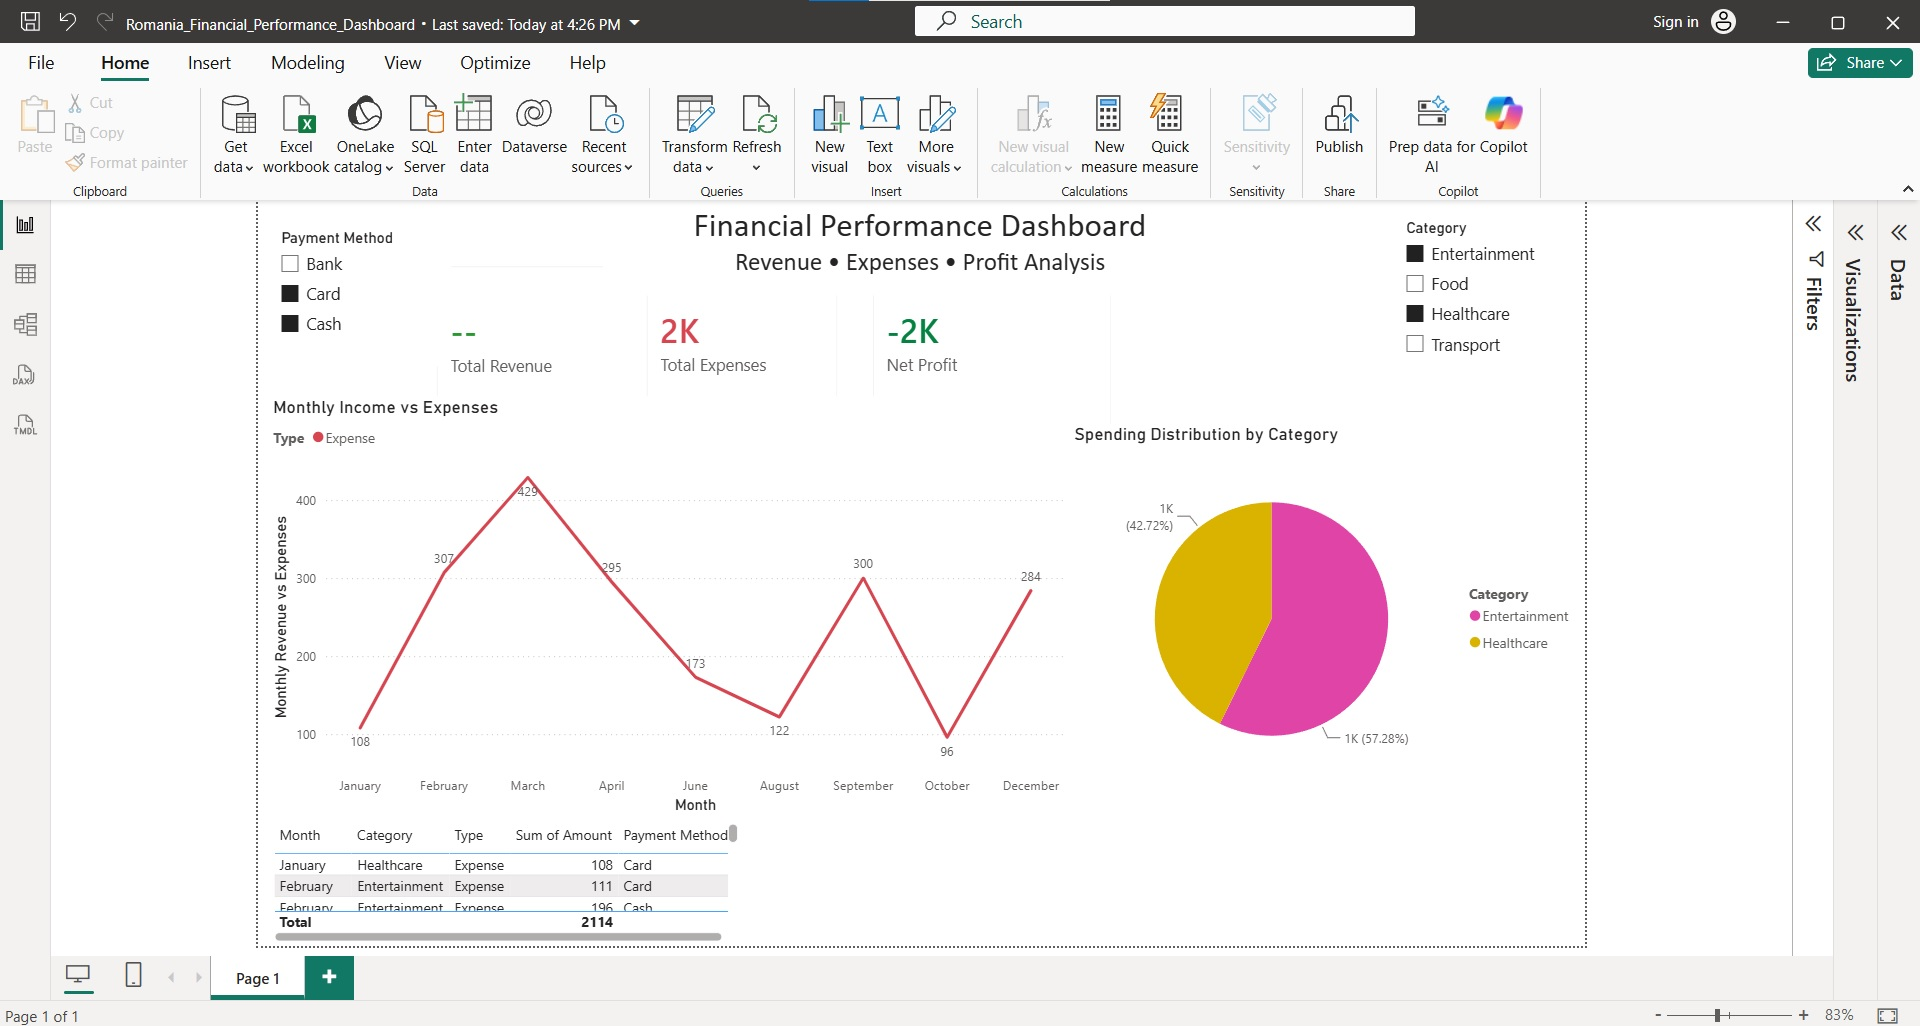

The page's visual inventory and layout, read from the dashboard file:
{"tool":"powerbi","page":{"name":"Page 1","canvas":[1280,720],"ordinal":0},"visuals":[{"type":"cardVisual","fields":{"Data":["Transactions.Revenue"]},"box":[155.1,46.7,256.6,178.4],"z":0},{"type":"cardVisual","fields":{"Data":["Transactions.Expenses"]},"box":[358.1,30.2,218.2,211.3],"z":1000},{"type":"cardVisual","fields":{"Data":["Transactions.Net Profit"]},"box":[576.3,30.2,264.8,211.3],"z":2000},{"type":"lineChart","title":"Monthly Income vs Expenses","fields":{"Category":["Transactions.Date.Variation.Date Hierarchy.Month"],"Y":["Sum(Transactions.Amount)"],"Series":["Transactions.Type"]},"box":[9.6,189.4,773.9,407.5],"z":3000},{"type":"pieChart","title":"Spending Distribution by Category","fields":{"Category":["Transactions.Category"],"Y":["Sum(Transactions.Amount)"]},"box":[783.5,215.4,496.7,358.1],"z":4000},{"type":"textbox","box":[333.4,0,612,91.9],"z":5000},{"type":"slicer","fields":{"Values":["Transactions.Payment Method"]},"box":[9.6,23.3,177,137.2],"z":6000},{"type":"slicer","fields":{"Values":["Transactions.Category"]},"box":[1095,13.7,174.3,200.3],"z":6001},{"type":"tableEx","fields":{"Values":["Transactions.Date.Variation.Date Hierarchy.Month","Transactions.Category","Transactions.Type","Sum(Transactions.Amount)","Transactions.Payment Method"]},"box":[9.6,596.9,458.3,123.5],"z":6002}]}

Visuals, with their boxes on the page's 1280x720 design canvas (x1, y1, x2, y2). These are canvas units, not pixel positions in the 1920x1026 screenshot, which may show the page scaled, cropped or inside an application window:
cardVisual - Transactions.Revenue: {"left": 155, "top": 47, "right": 412, "bottom": 225}
cardVisual - Transactions.Expenses: {"left": 358, "top": 30, "right": 576, "bottom": 242}
cardVisual - Transactions.Net Profit: {"left": 576, "top": 30, "right": 841, "bottom": 242}
"Monthly Income vs Expenses" lineChart: {"left": 10, "top": 189, "right": 784, "bottom": 597}
"Spending Distribution by Category" pieChart: {"left": 784, "top": 215, "right": 1280, "bottom": 574}
textbox: {"left": 333, "top": 0, "right": 945, "bottom": 92}
slicer - Transactions.Payment Method: {"left": 10, "top": 23, "right": 187, "bottom": 160}
slicer - Transactions.Category: {"left": 1095, "top": 14, "right": 1269, "bottom": 214}
tableEx - Transactions.Date.Variation.Date Hierarchy.Month x Transactions.Category: {"left": 10, "top": 597, "right": 468, "bottom": 720}
